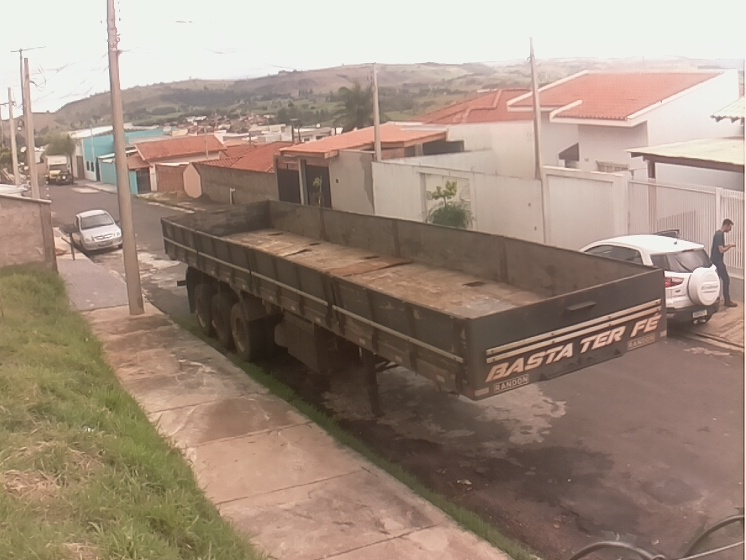person: (706, 217, 742, 308)
